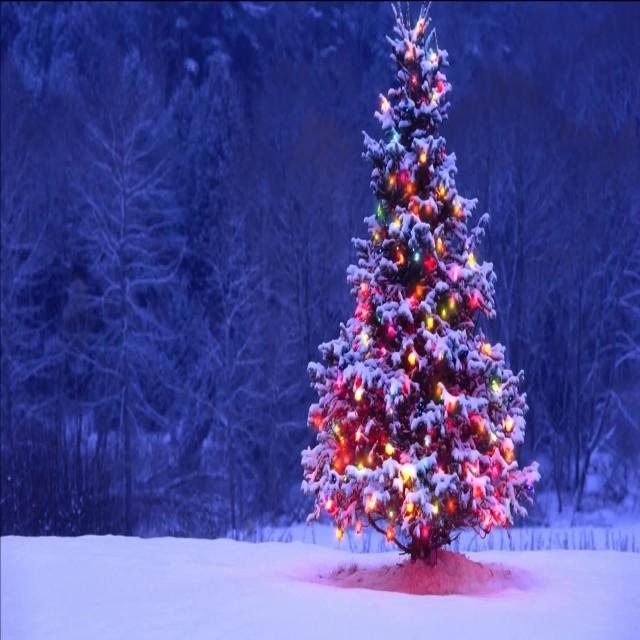Christmas-tree: (264, 0, 533, 567)
